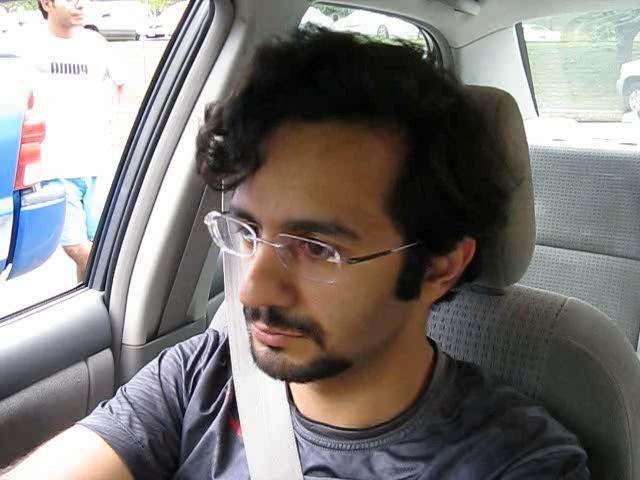no_yawn: (237, 302, 319, 355)
open_eyeL: (212, 209, 268, 251)
open_eyeR: (275, 222, 355, 273)
